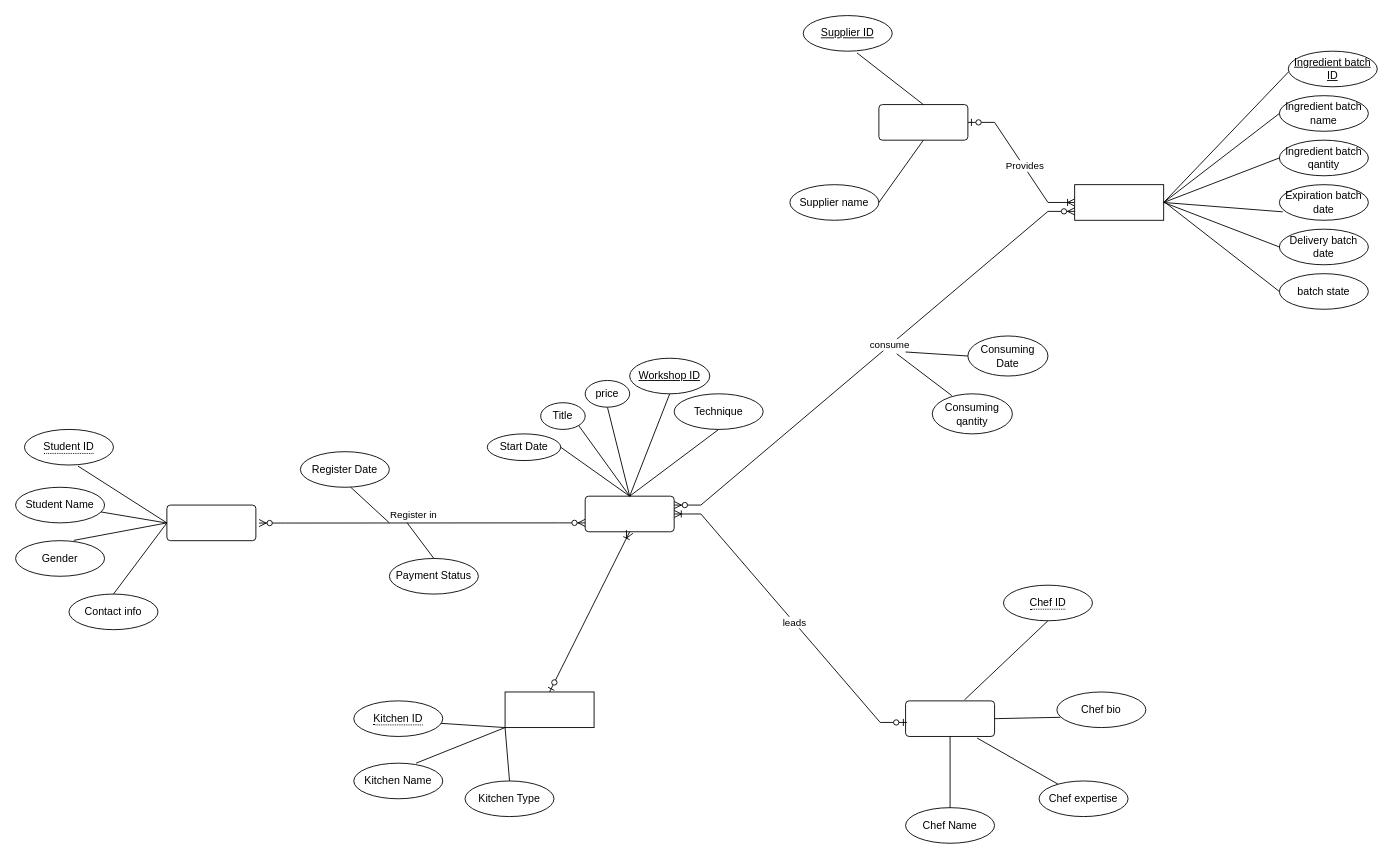
The diagram is 1393 pixels wide and 859 high, and some of its shapes have lost their labels. The box of each missing label's shape, as (x1, y1, x2, y2) in pixels:
Chef: (905, 700, 995, 736)
Ingredient batch: (1074, 184, 1164, 220)
Kitchen: (504, 691, 594, 728)
Student: (166, 504, 256, 541)
Supplier: (878, 104, 968, 140)
Workshop: (584, 495, 674, 532)
